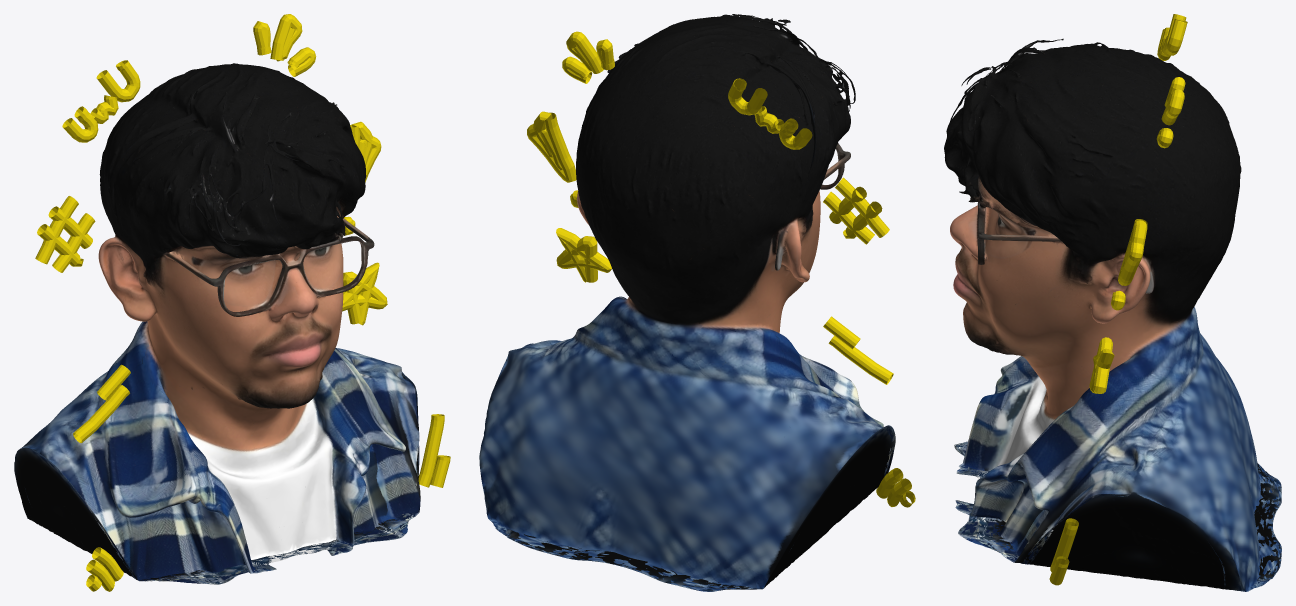
Rendered from Portrait_9044_autosave.glb.
The picture shows the model from 3 angles, left to right: view 1: azimuth 30°, elevation 25°; view 2: azimuth 150°, elevation 25°; view 3: azimuth 270°, elevation 25°; orthographic projection.
Parts seen in each view (by area): view 1: Mesh_0, GPencil.003; view 2: Mesh_0, GPencil.003; view 3: Mesh_0, GPencil.003.
Boxes of the visible parts, x1,y1,x2,y2 form: Mesh_0: (14, 63, 420, 584); GPencil.003: (35, 14, 450, 591); Mesh_0: (479, 14, 895, 591); GPencil.003: (527, 31, 915, 507); Mesh_0: (944, 38, 1281, 591); GPencil.003: (1049, 14, 1187, 585).
Size of the model in its own units: 0.6592 by 0.7844 by 0.5015.
2 materials, 1 textured.
